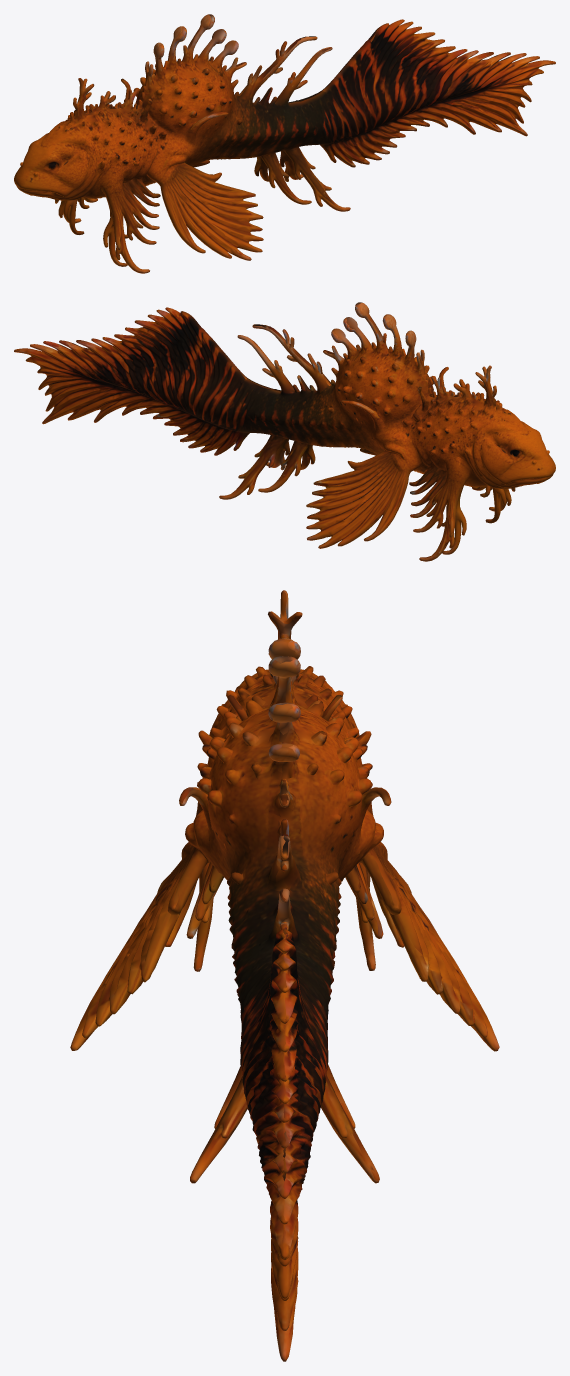
The model's file is BigRED001.1-W.LG-gpt-WEB.glb.
3 views of the same model, one above another, from view 1: azimuth 30°, elevation 25°; view 2: azimuth 150°, elevation 25°; view 3: azimuth 270°, elevation 25° (orthographic). The views are drawn at different scales.
Visible parts, largest first — view 1: texture_pbr_v128; view 2: texture_pbr_v128; view 3: texture_pbr_v128.
Boxes of the visible parts, x1=… form: texture_pbr_v128: x1=14, y1=14, x2=555, y2=273; texture_pbr_v128: x1=14, y1=302, x2=555, y2=561; texture_pbr_v128: x1=70, y1=590, x2=499, y2=1361.
Size of the model in its own units: 1.19 by 0.4437 by 0.4123.
Materials: 1 (1 with a texture image).
